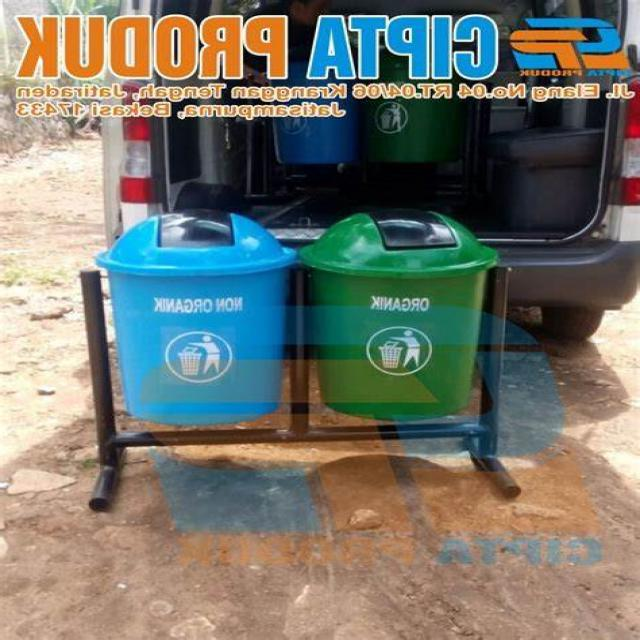garbage container: (23, 206, 295, 457), (299, 194, 507, 439)
